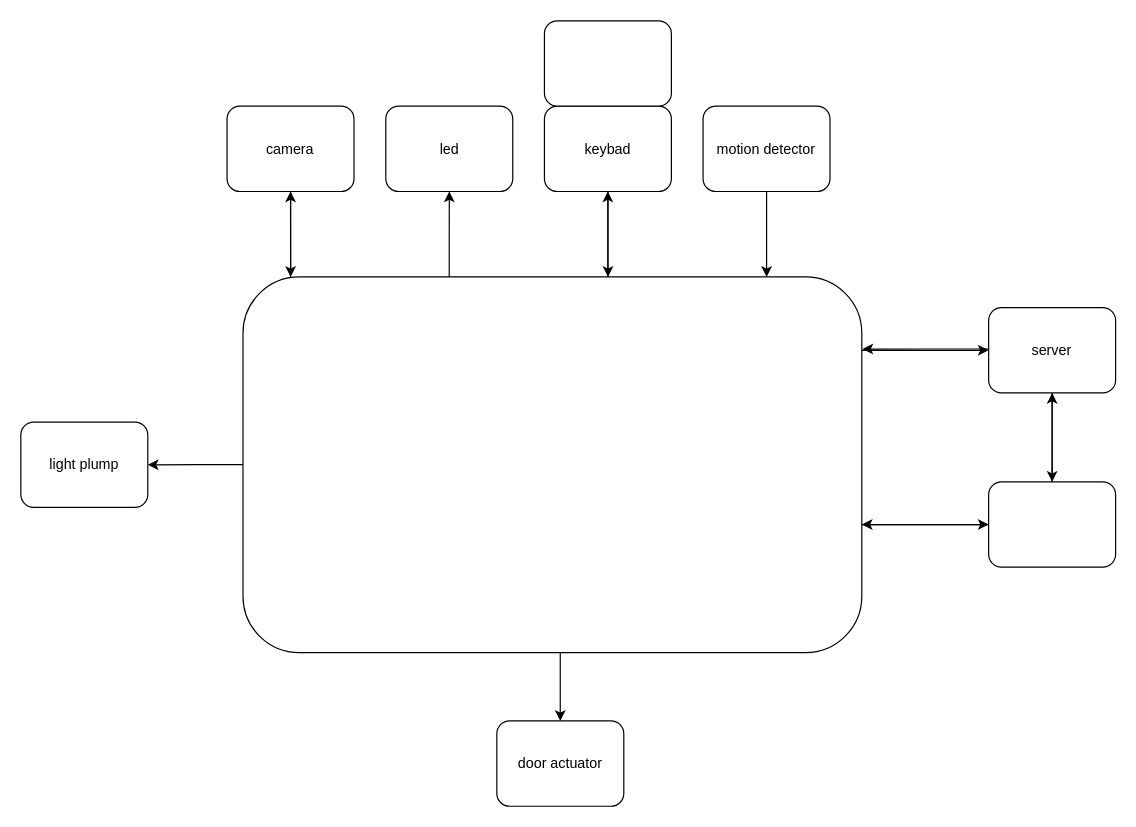
The diagram is 1136 pixels wide and 827 high, and some of its shapes have lost their labels. The shapes that lost their labels are listed below. From the top down, each one's centre as x and y in pixels, then its label:
At point (607, 63): "lcd".
At point (552, 464): "controller".
At point (1051, 524): "mobile App".
